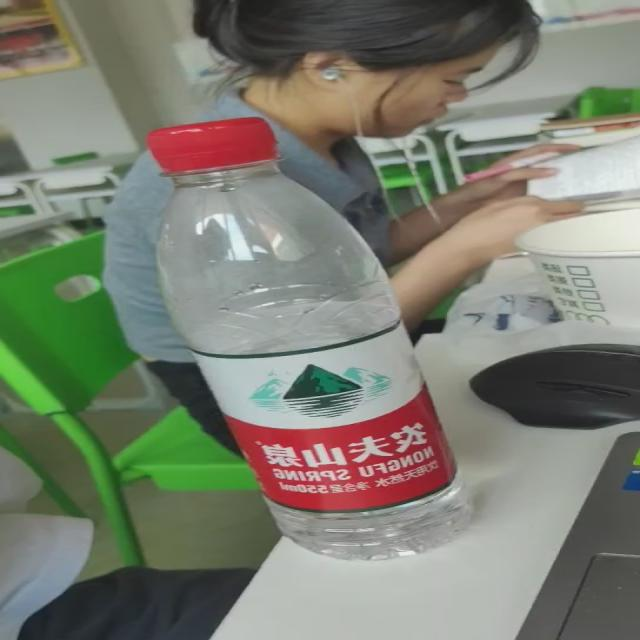plastic: (142, 117, 480, 561)
